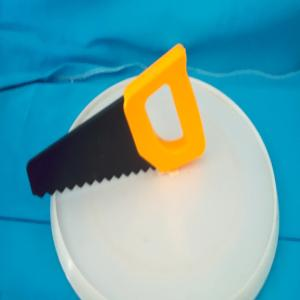serrote: (26, 44, 206, 200)
